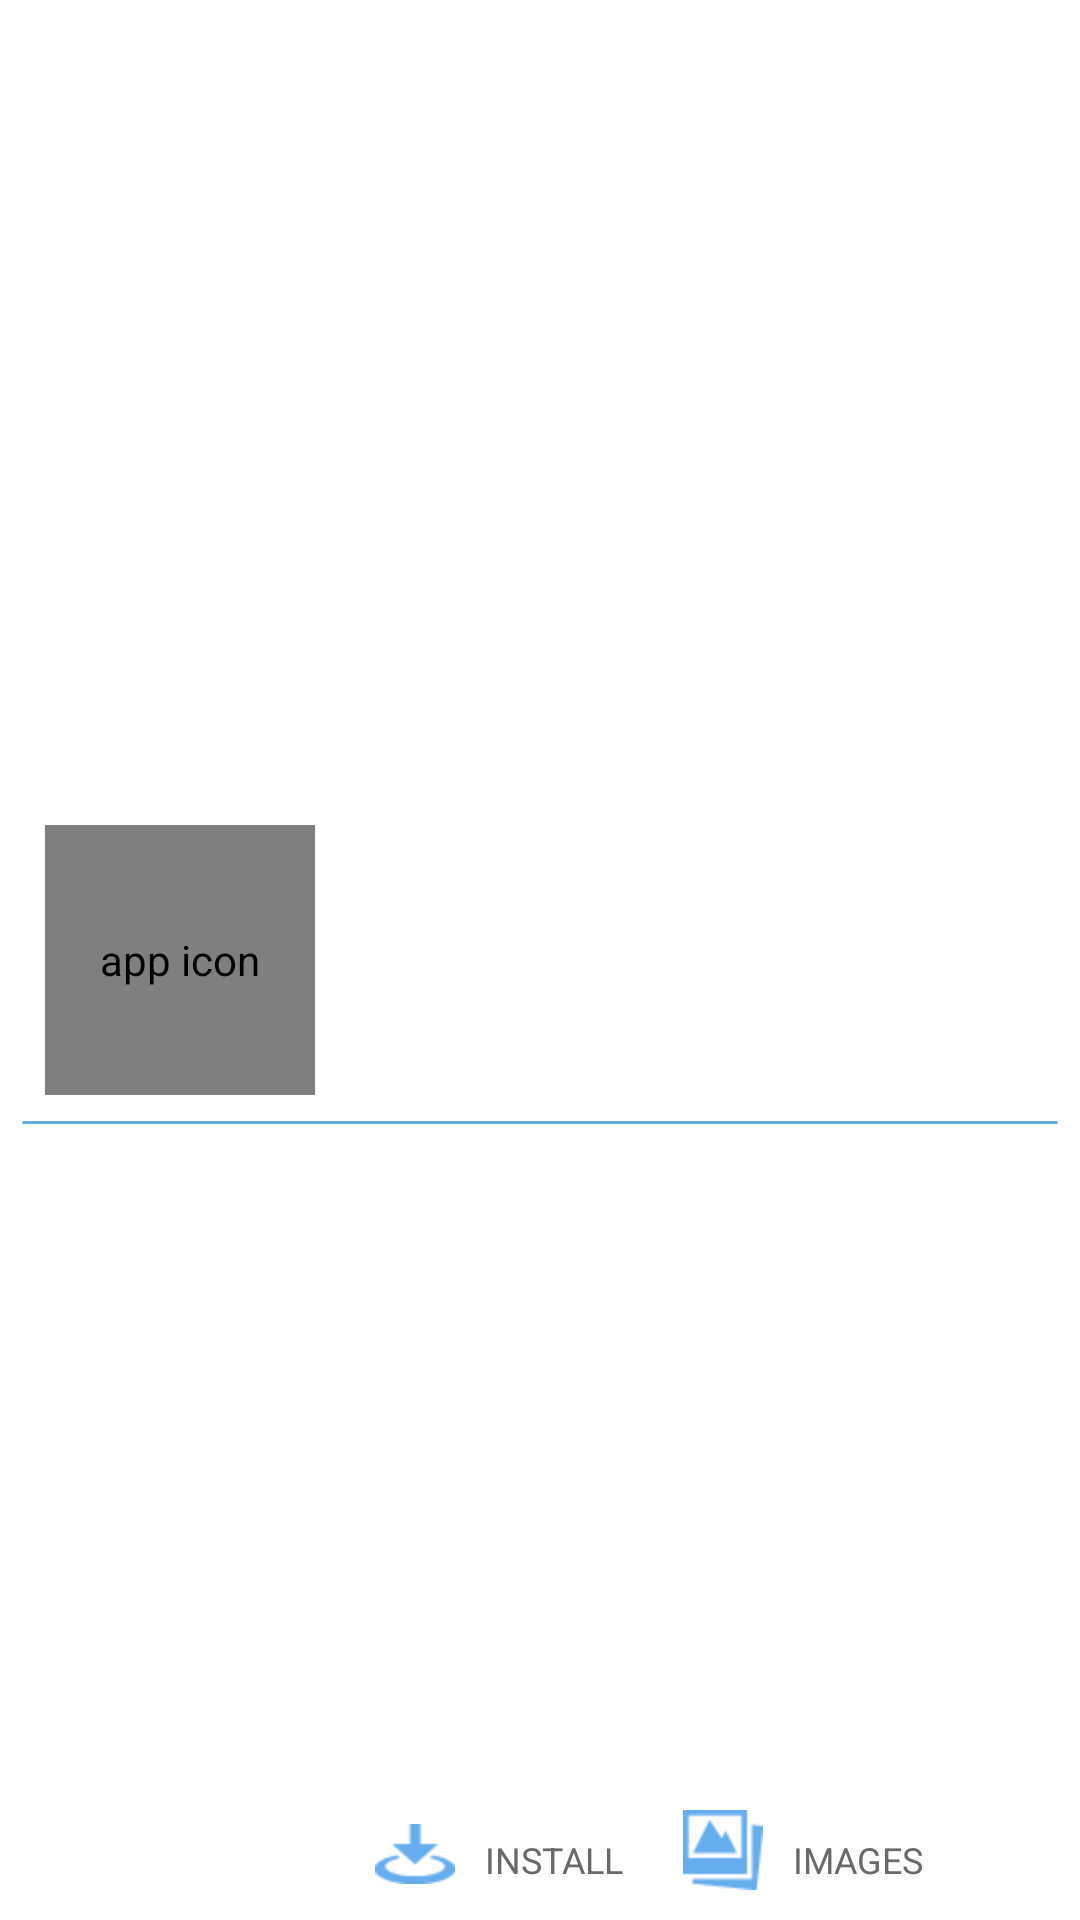

Icon click points for this 1080px x 1920px phone screenshot, format (x,y):
View app screenshots: (723,1850)
